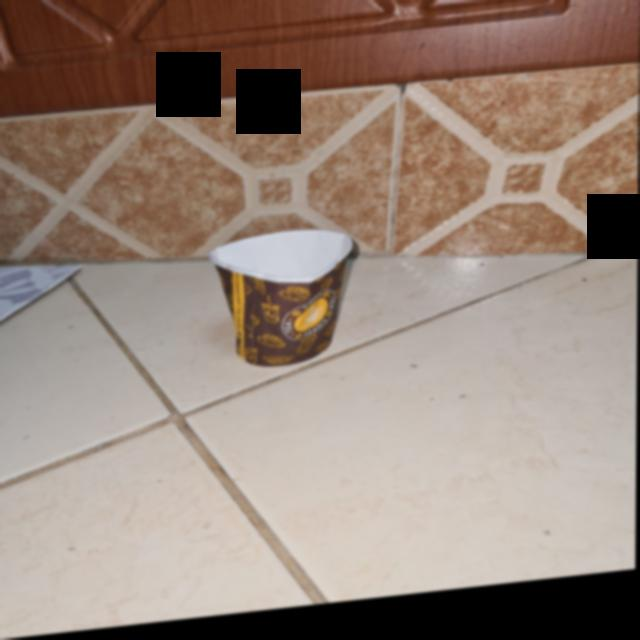cups: (210, 231, 361, 379)
